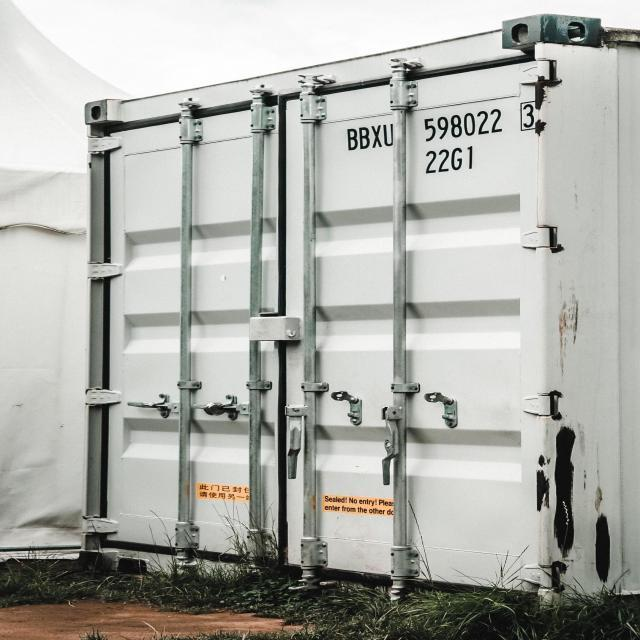ISO: (426, 146, 476, 173)
container_number: (346, 110, 556, 144)
